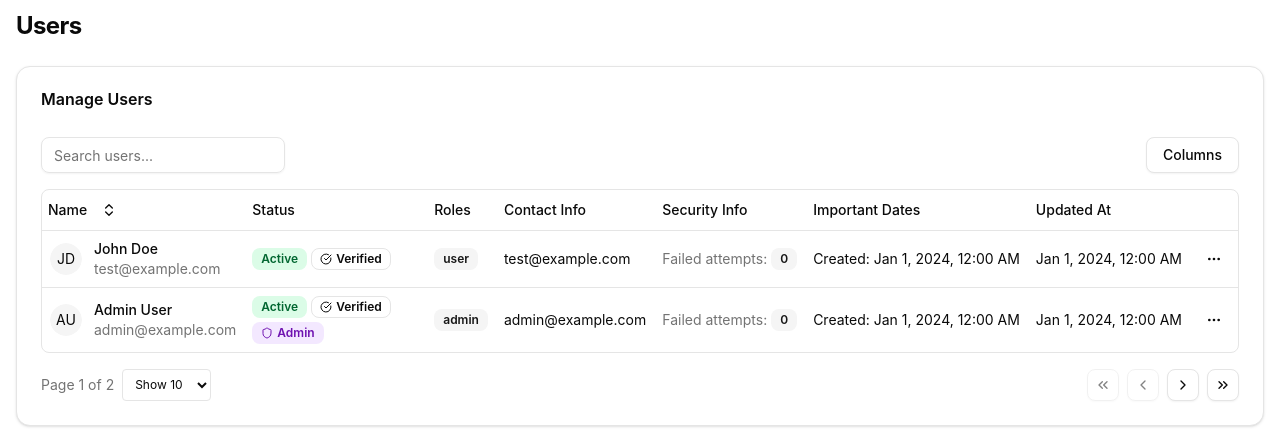
UsersList Component › Permission-Based Behavior › shows edit and delete actions when user has appropriate permissions
Click the 1st button named "open menu": [1214, 258] box x1=1198 y1=242 x2=1230 y2=274
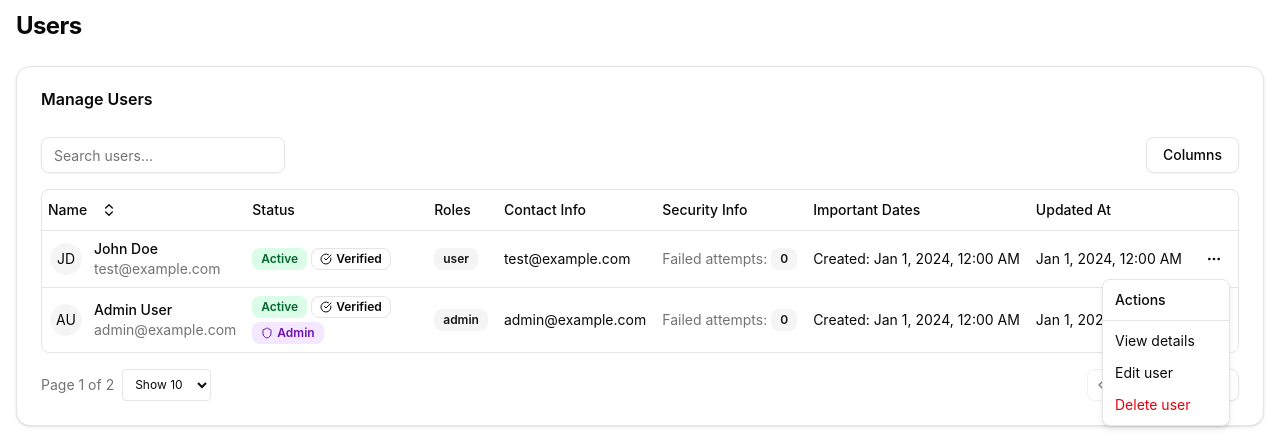
expect the menu item "View details" is shown: met, box x1=1115 y1=332 x2=1195 y2=349
expect the menu item "Edit user" is shown: met, box x1=1115 y1=364 x2=1173 y2=381
expect the menu item "Delete user" is shown: met, box x1=1115 y1=396 x2=1190 y2=413
